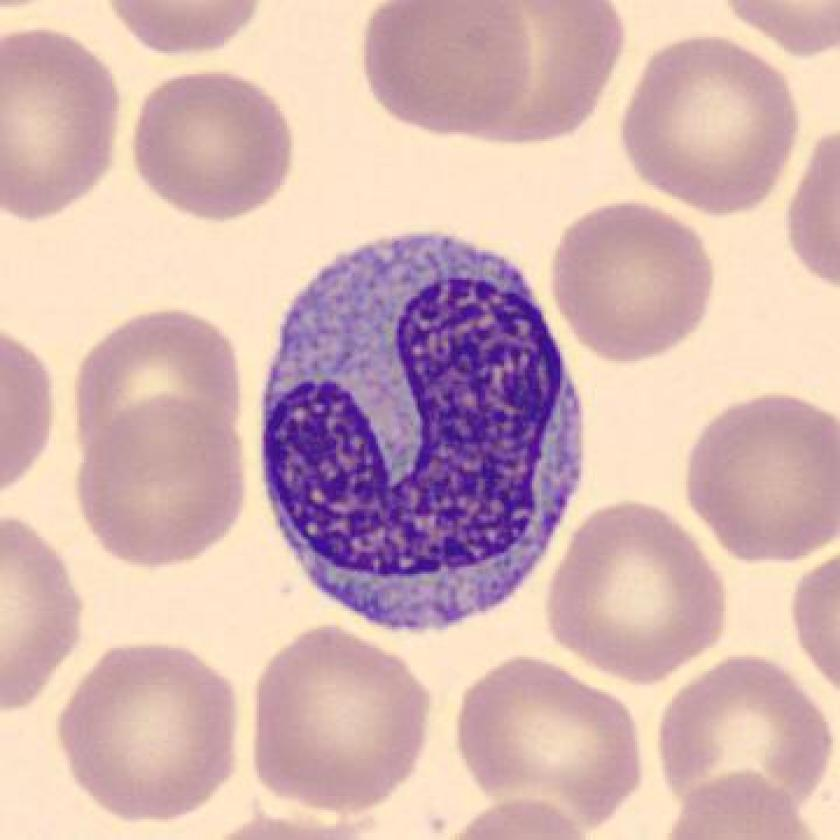monocyte: (239, 209, 605, 656)
